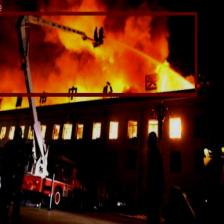fire: (0, 11, 197, 95)
